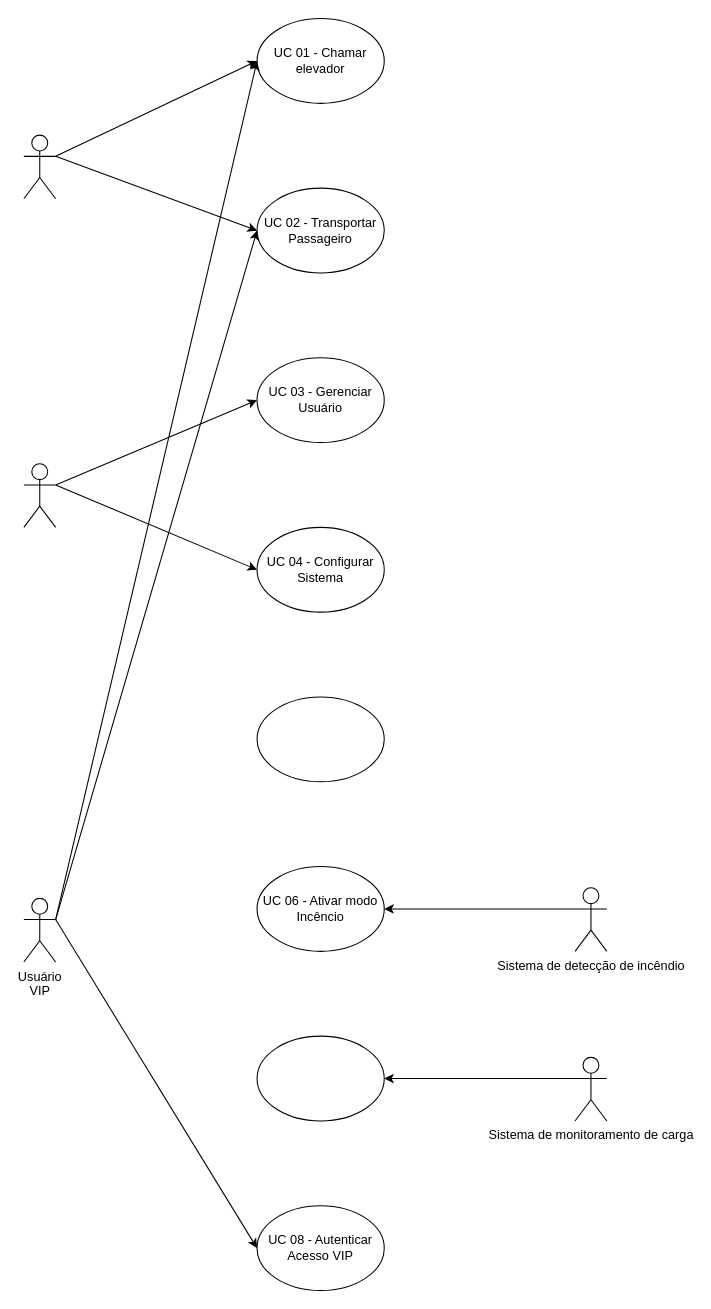
Image size: 711x1309. Some labels were removed from this diagram. Here are the shapes that lost their labels. From the top down, the centre of each, then its label:
point 39,166: Usuário
point 39,495: Usuário Master
point 320,739: UC 05 - Registrar Log de Atividade
point 320,1078: UC 07 - Controlar carga máxima
